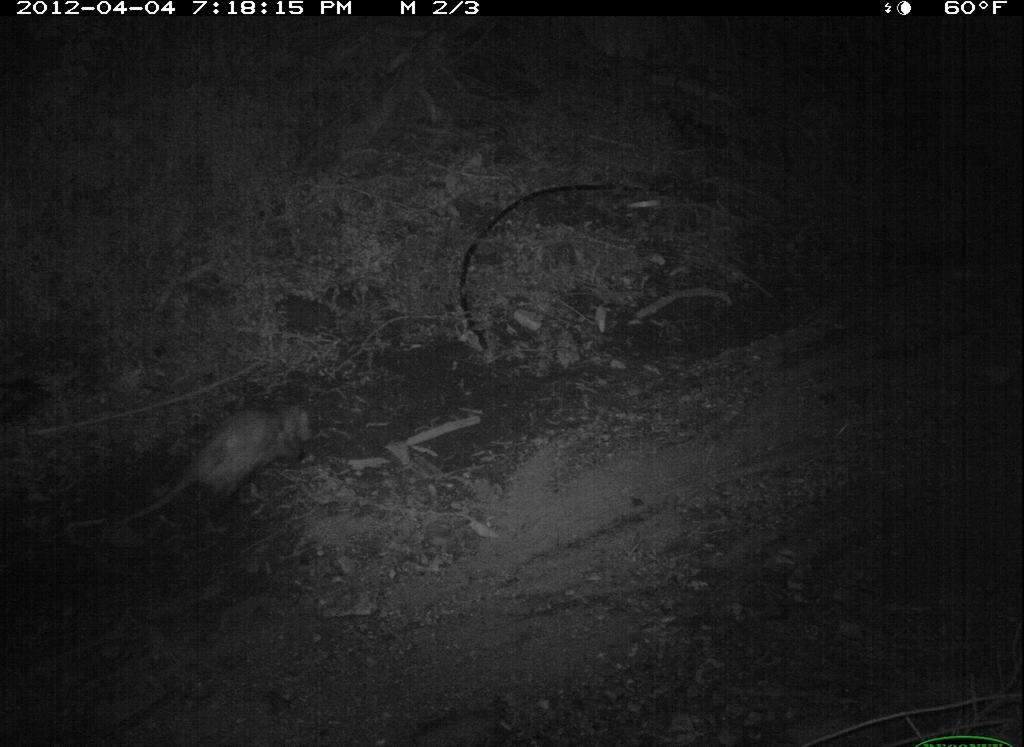opossum: (136, 399, 346, 519)
